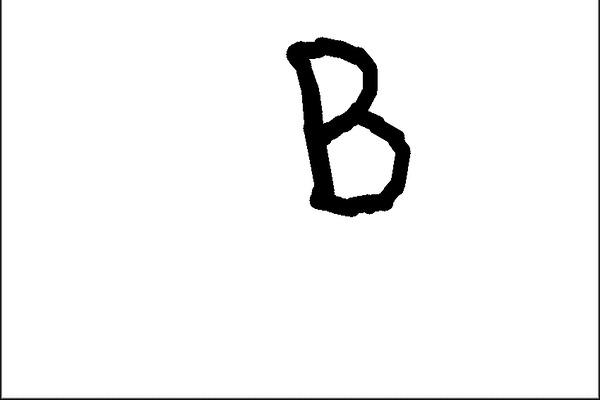B: (277, 32, 414, 225)
